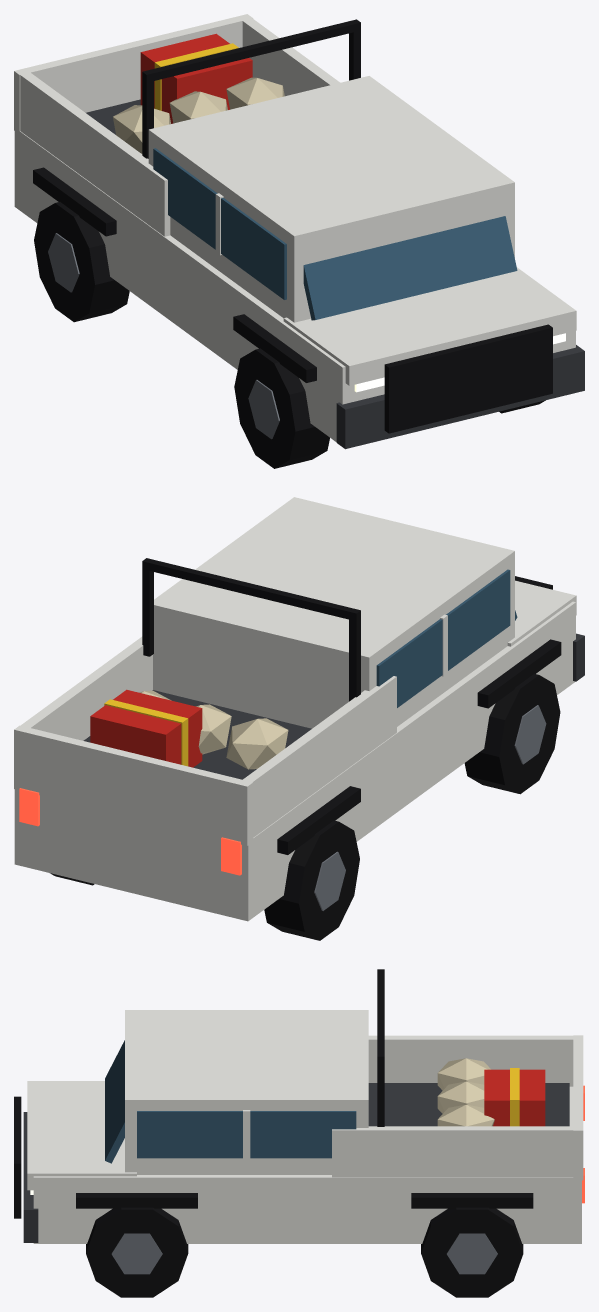
The model's file is Camioneta 4x4.fbx.
3 renders of one model, top to bottom at view 1: azimuth 30°, elevation 25°; view 2: azimuth 150°, elevation 25°; view 3: azimuth 270°, elevation 25°, orthographic. The views are drawn at different scales.
Parts seen in each view (by area): view 1: Camioneta 4x4; view 2: Camioneta 4x4; view 3: Camioneta 4x4.
Part boxes in pixels (x1,y1,x2,y2): Camioneta 4x4: (14, 14, 584, 468); Camioneta 4x4: (14, 497, 584, 940); Camioneta 4x4: (14, 969, 584, 1297).
Size of the model in its own units: 2.12 by 2.09 by 4.69.
